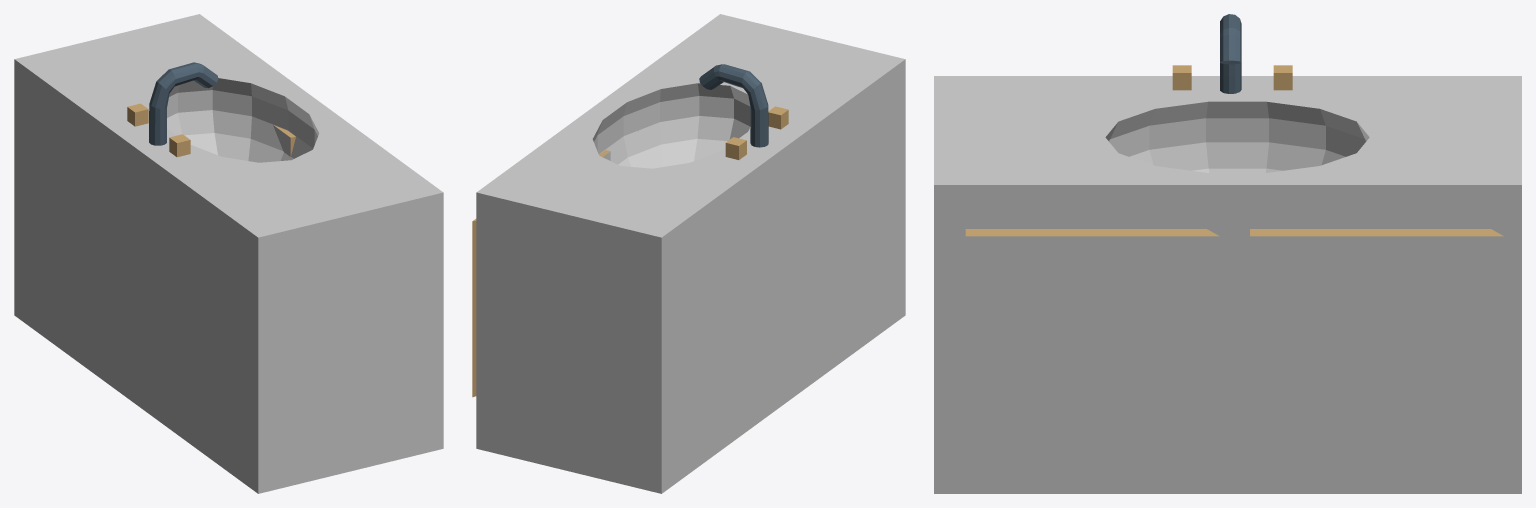
File: sink.dae
3 renders of one model, left to right at view 1: azimuth 30°, elevation 25°; view 2: azimuth 150°, elevation 25°; view 3: azimuth 270°, elevation 25°, orthographic. The views are drawn at different scales.
Parts seen in each view (by area): view 1: Cube, Cylinder; view 2: Cube, Cylinder; view 3: Cube, Cylinder.
Part boxes in pixels (<box>): Cube: <box>14,14,443,493</box>; Cylinder: <box>127,62,295,157</box>; Cube: <box>476,14,905,493</box>; Cylinder: <box>472,64,788,397</box>; Cube: <box>934,76,1521,493</box>; Cylinder: <box>965,14,1503,448</box>.
Size of the model in its own units: 2.93 by 6.29 by 4.64.
